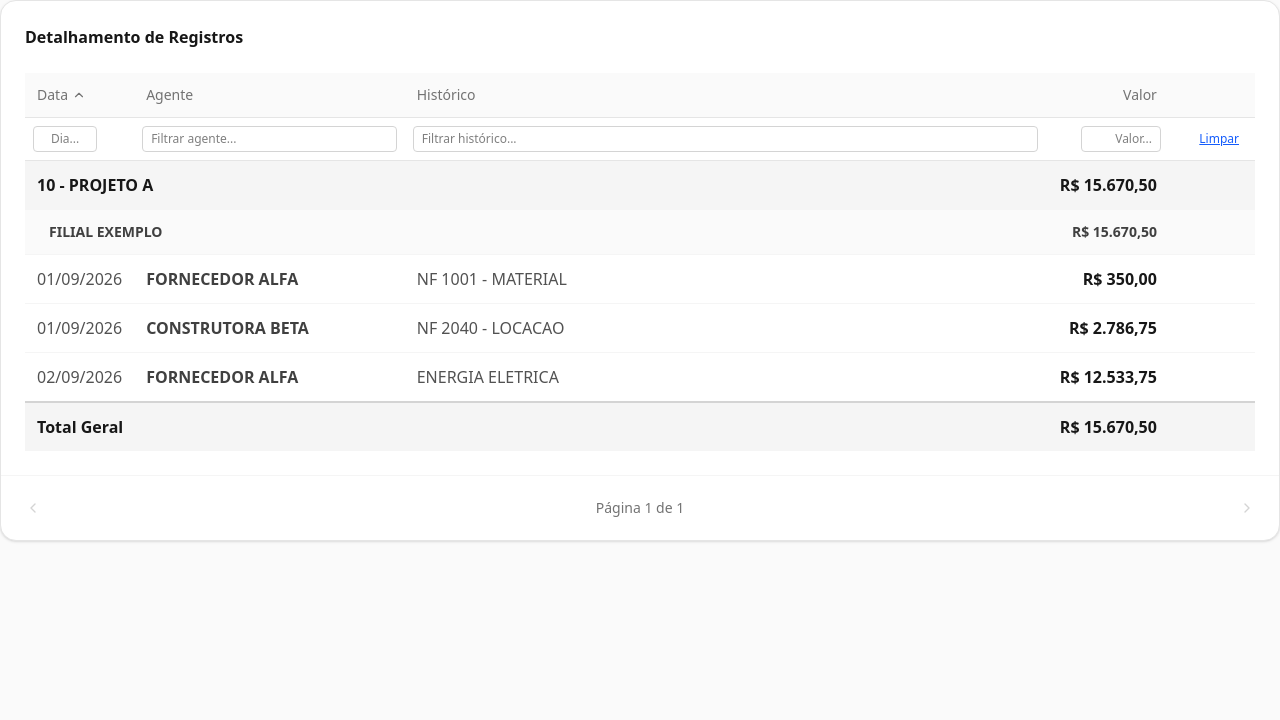
Test: Tabela de Detalhamento (DetalhamentoTable) › Filtros de coluna › deve filtrar por histórico
In the field with placeholder "Filtrar histórico...": (725, 139) [413,126,1038,152], type "locacao"
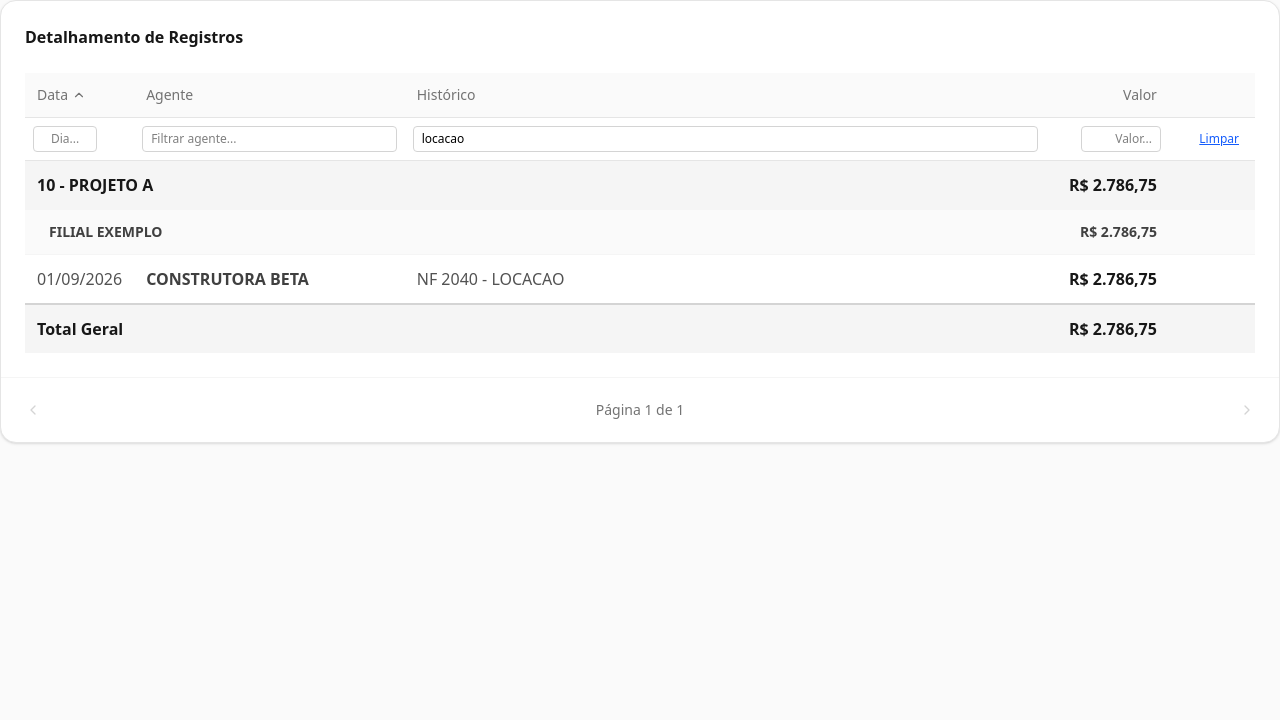
expect the row "01/09/2026 CONSTRUTORA BETA NF 2040 - LOCACAO R$ 2.786,75" is shown: met, box [25,254,1255,304]
